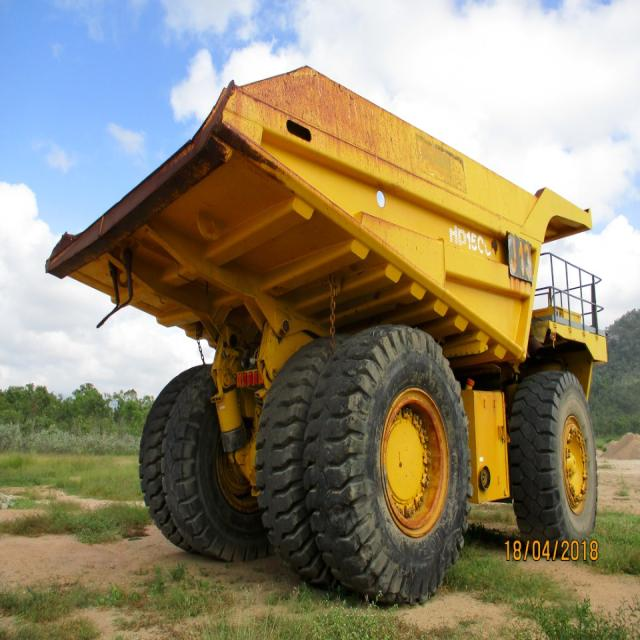dump_truck: (45, 53, 609, 599)
